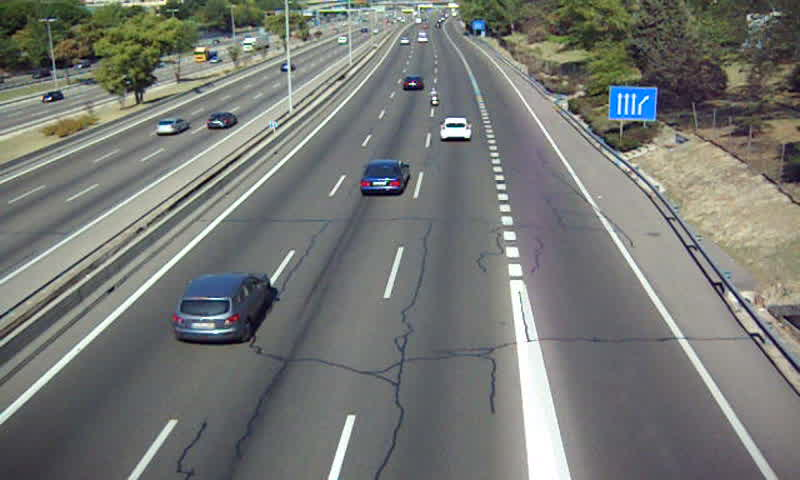car: (172, 275, 266, 343), (361, 160, 410, 194), (440, 116, 471, 142), (402, 74, 426, 90)
motorcycle: (428, 89, 441, 109)
